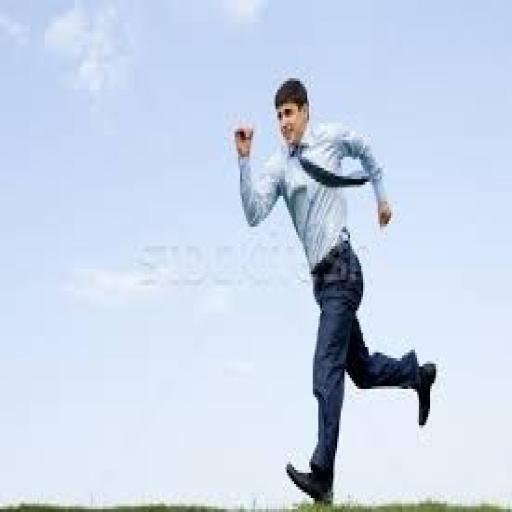running: (231, 73, 439, 506)
